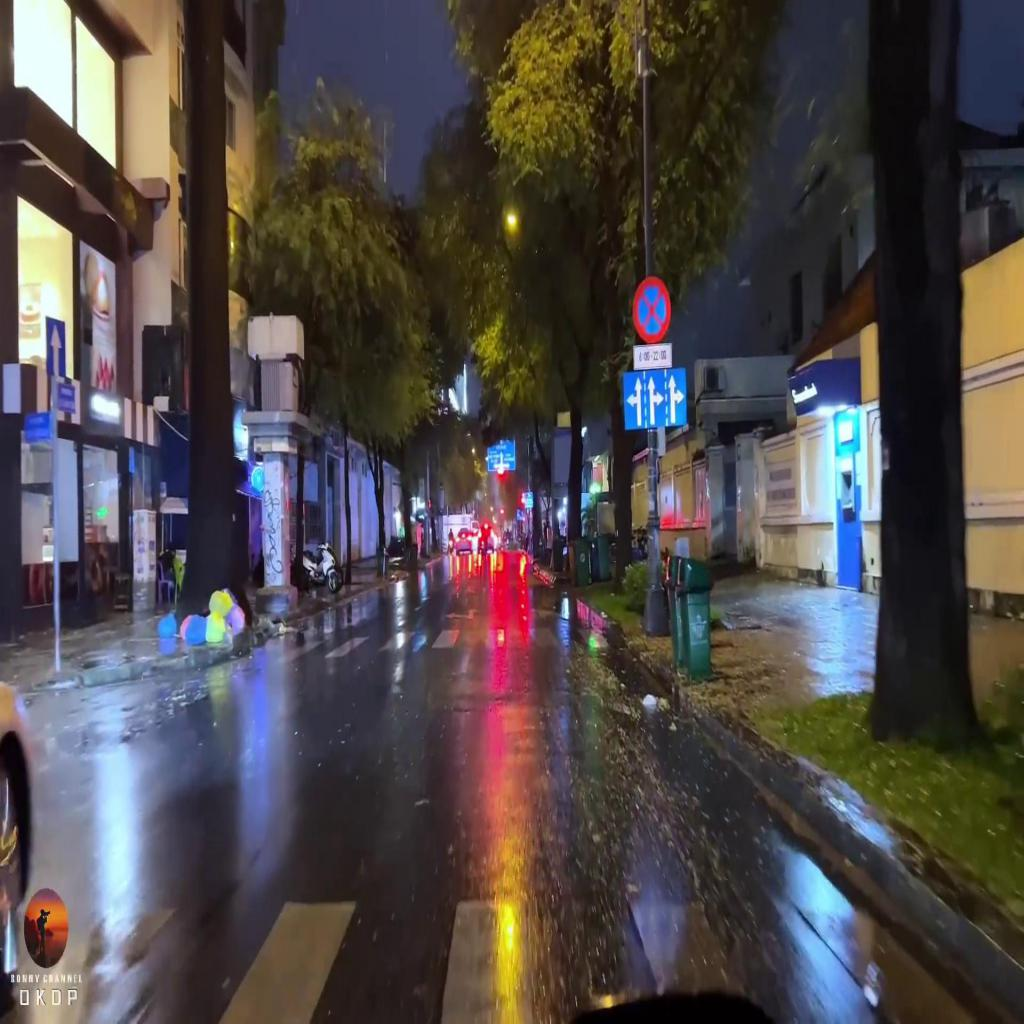cam_dung_xe_va_do_xe: (633, 274, 673, 345)
huong_di_tren_moi_lan_duong_theo_vach_ke_duong: (622, 367, 688, 433)
khac: (634, 343, 673, 371)
